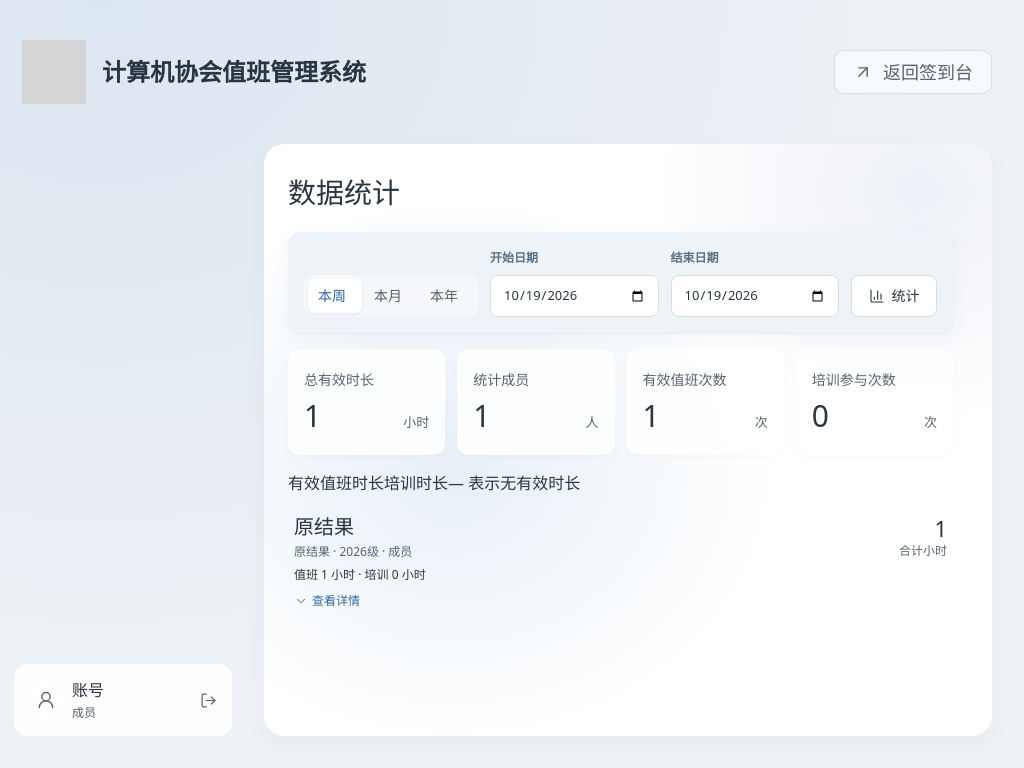
Test case: StatsPage request states › retains successful statistics on failure and retries the captured range without committing draft dates
Type "2026-01-01" into the date field named "statsFrom" at coordinates (574, 296), box top-left (490, 275), bottom-right (658, 317)
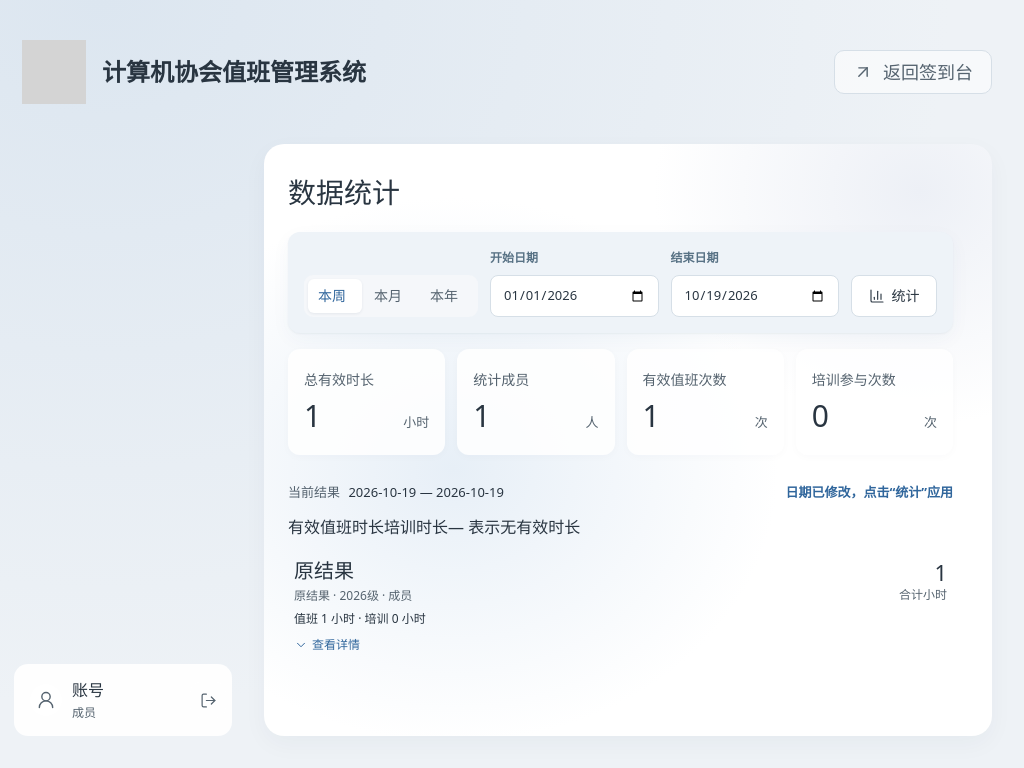
Type "2026-02-01" into the date field named "statsTo" at coordinates (755, 296), box top-left (670, 275), bottom-right (839, 317)
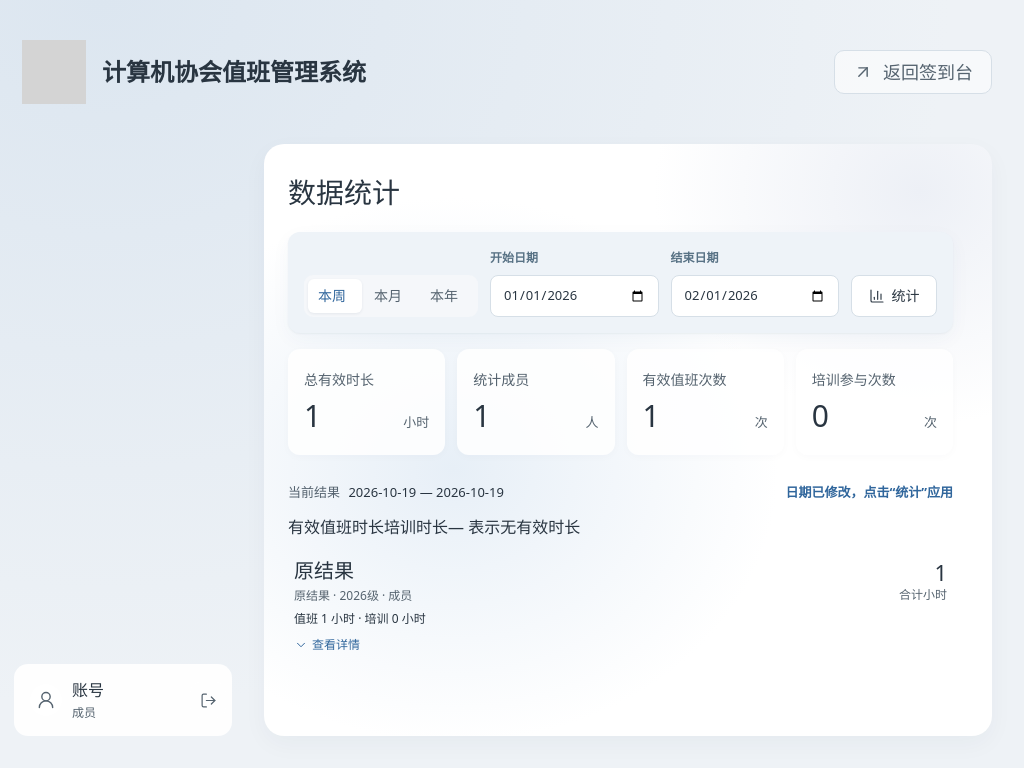
Submit the form, box top-left (288, 232), bottom-right (953, 333)
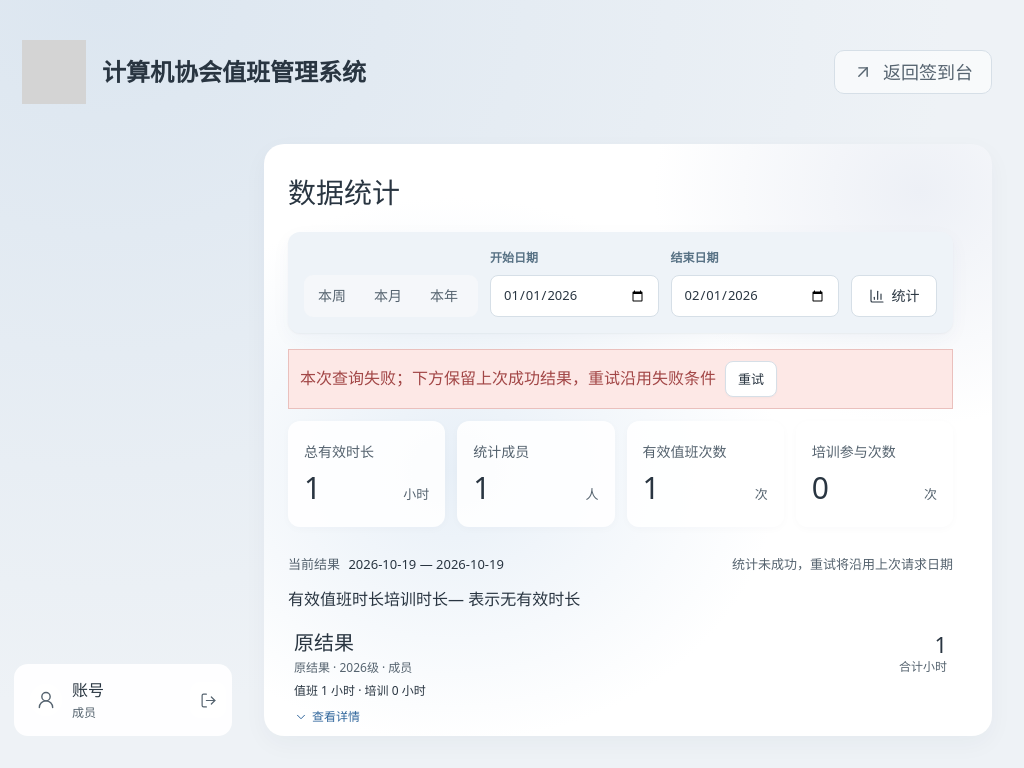
Expected: the text "原结果" is shown, top-left (294, 629), bottom-right (354, 656)
Now the element with class "stats-results-context" shows "统计未成功", box top-left (732, 555), bottom-right (953, 573)
Now the message with class "stats-results-context" no longer shows "日期已修改"
Type "2026-03-01" into the date field named "statsFrom" at coordinates (574, 296), box top-left (490, 275), bottom-right (658, 317)
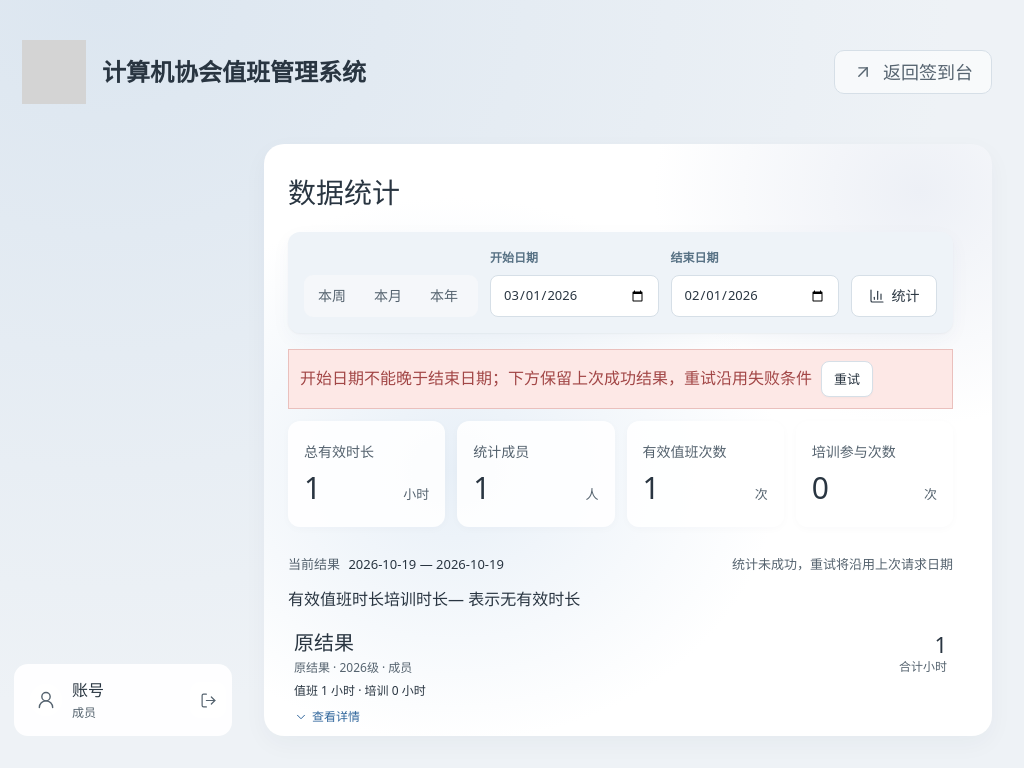
Click the button "重试" at coordinates (847, 379), box top-left (821, 361), bottom-right (873, 397)
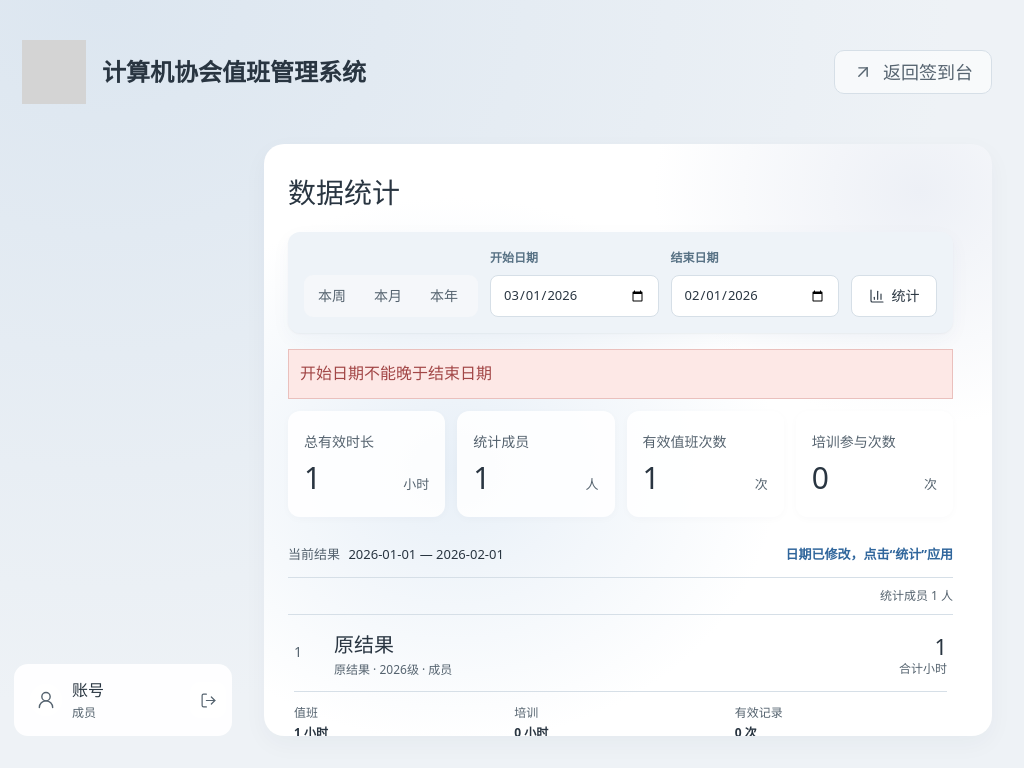
Now the element with class "stats-results-context" shows "2026-01-01 — 2026-02-01", box top-left (348, 545), bottom-right (504, 563)
